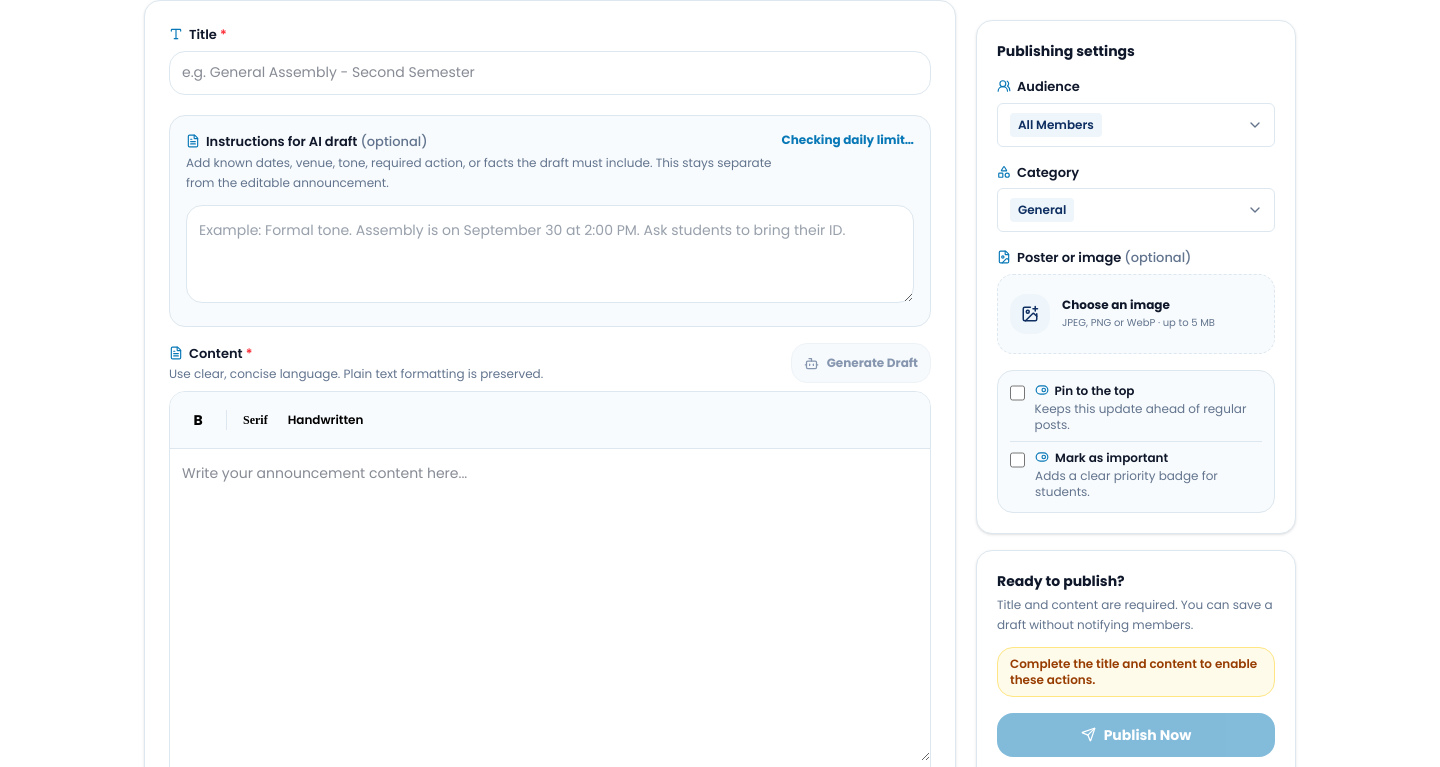
Test: CreateAnnouncementPage › keeps the immediate-publish wording for an Admin and links back to the list
Type "General Assembly" into the field labelled "Title *" at (550, 72), box [169, 50, 931, 94]
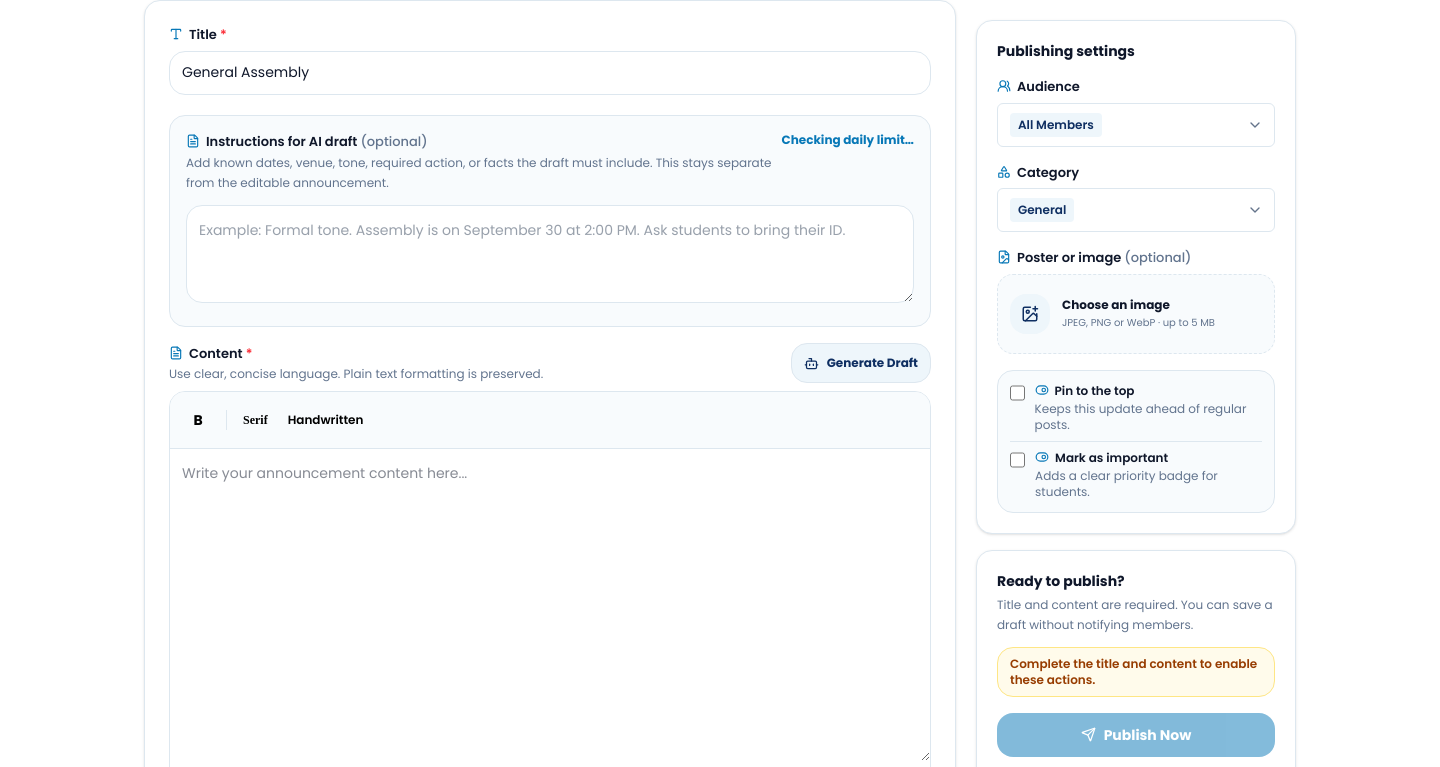
Type "All members are invited." into the text box labelled "Content *" at (550, 605), box [170, 449, 930, 761]
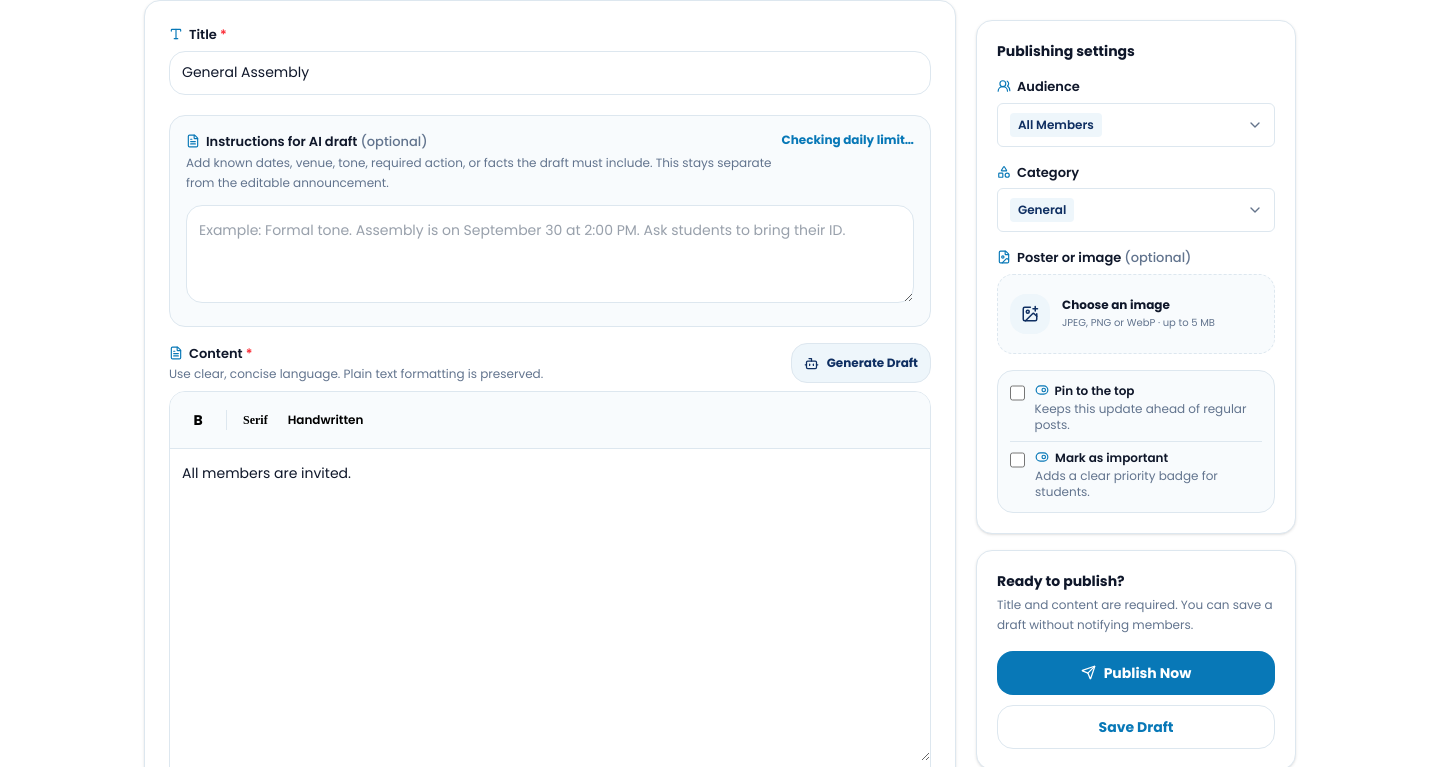
Click the button "Publish Now" at (1136, 672), box [997, 650, 1275, 694]
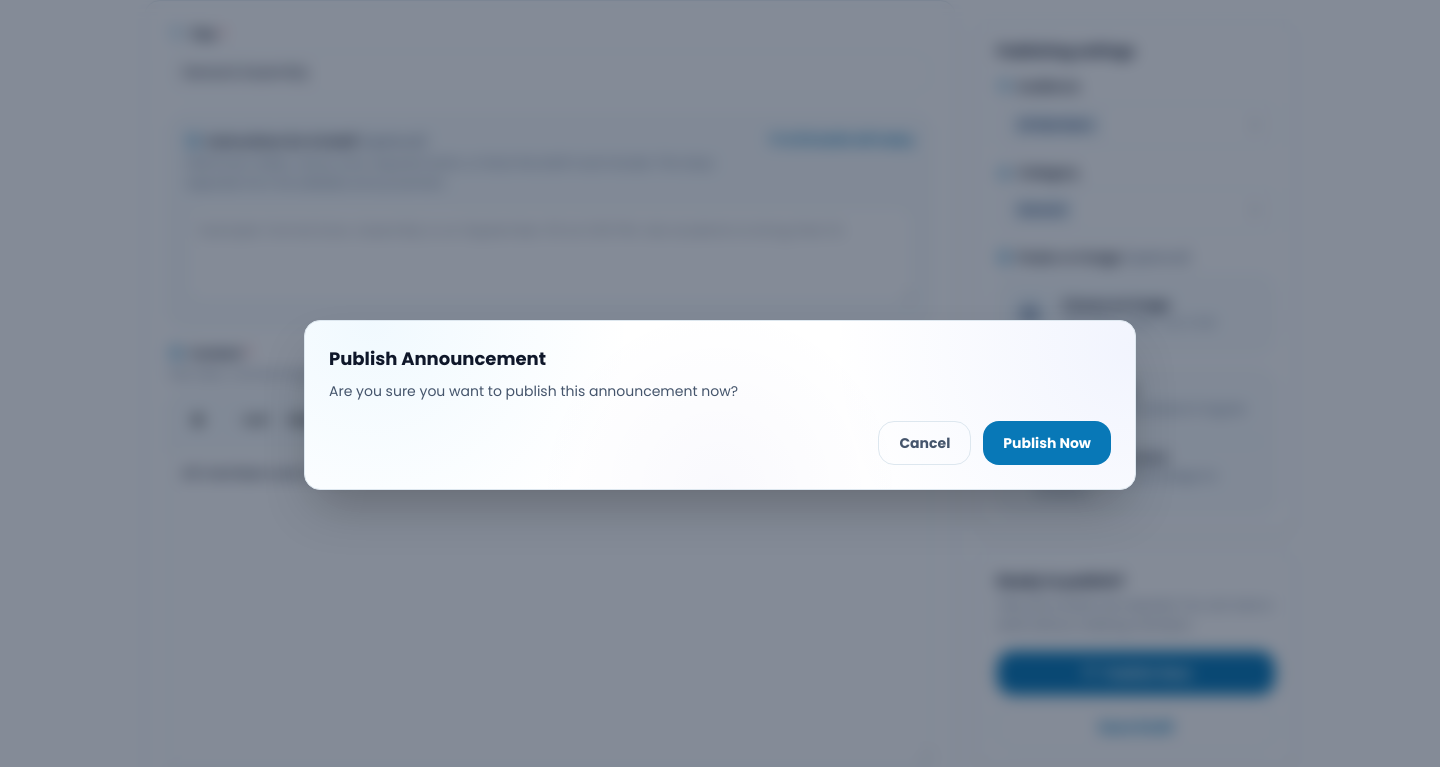
Expected: the button "Save Draft" is shown, [997, 704, 1275, 748]
Expected: the text "Are you sure you want to publish this announcement now?" is shown, [329, 381, 738, 401]
Click the button "Publish Now" at (1047, 443), box [983, 421, 1111, 465]
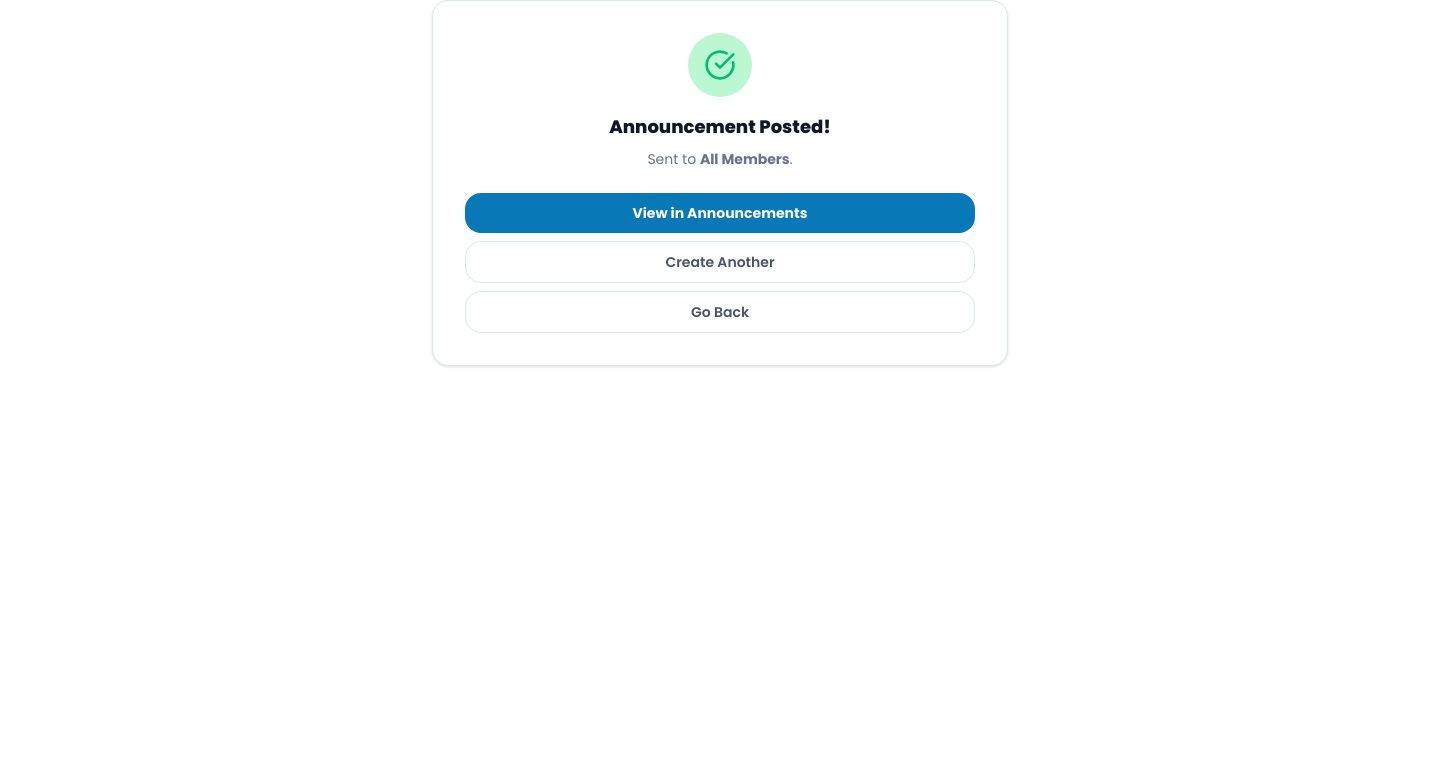
Expected: the heading "Announcement Posted!" is shown, [609, 114, 831, 139]
Expected: the text "Sent to All Members." is shown, [647, 149, 793, 169]
